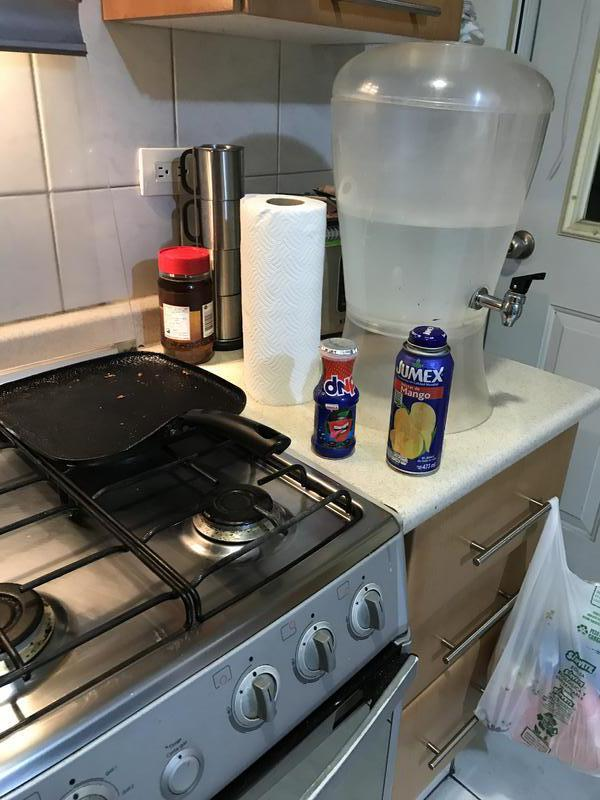danup: (314, 338, 360, 462)
jugo_jumex: (387, 325, 446, 477)
